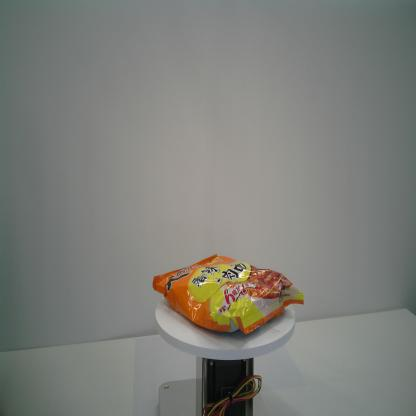Instant Noodles: (150, 252, 305, 338)
